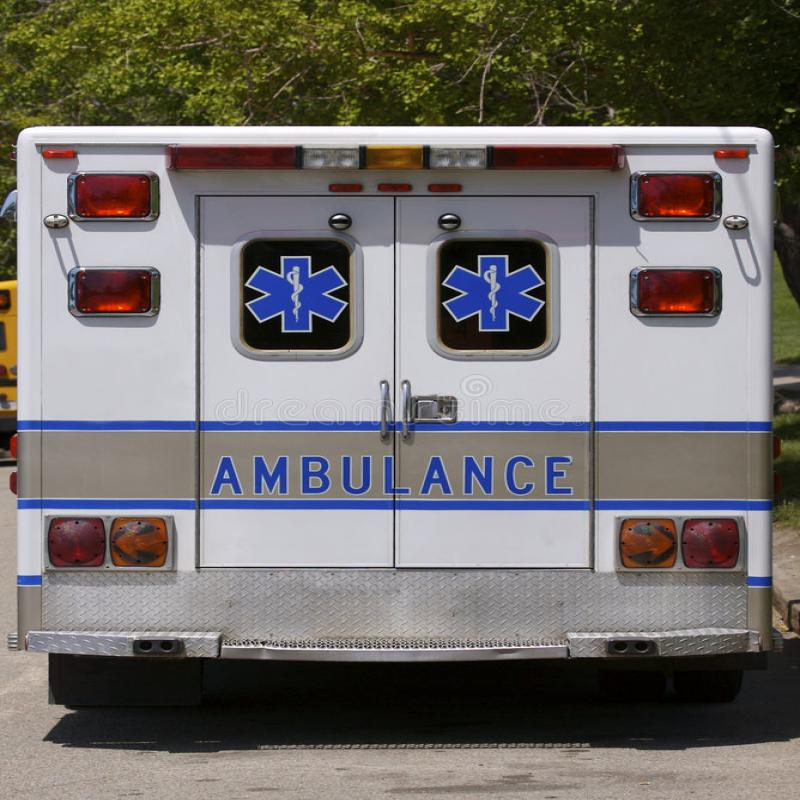ambulance: (9, 62, 800, 752)
